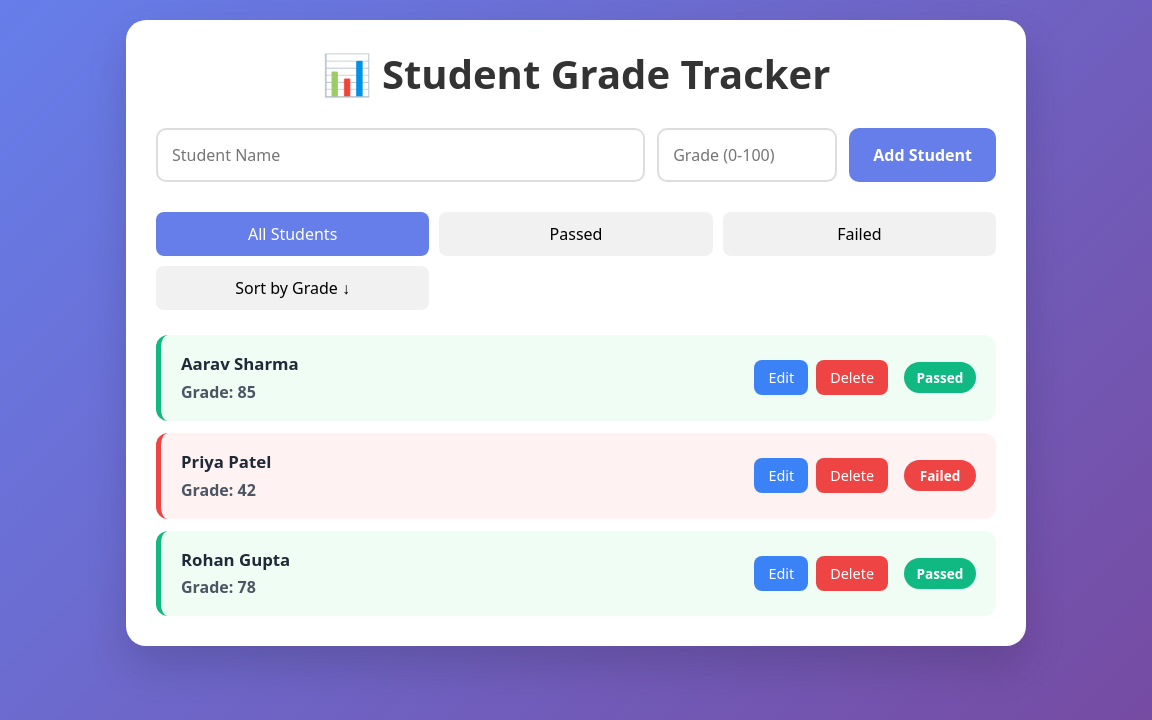
it: Student Grade Tracker › filters passed students
Click the button "Passed": (576, 234) [439,212,713,256]
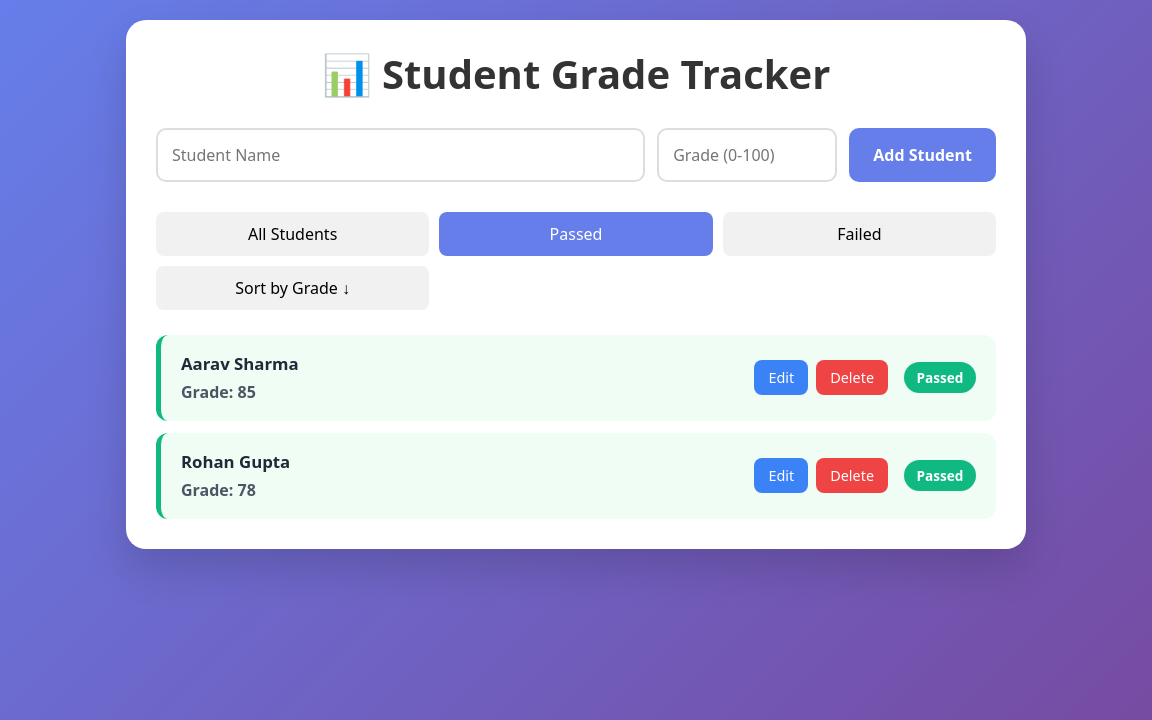
Check: the heading "Aarav Sharma" is shown, box [181,352,299,375]
Check: the heading "Priya Patel" is gone
